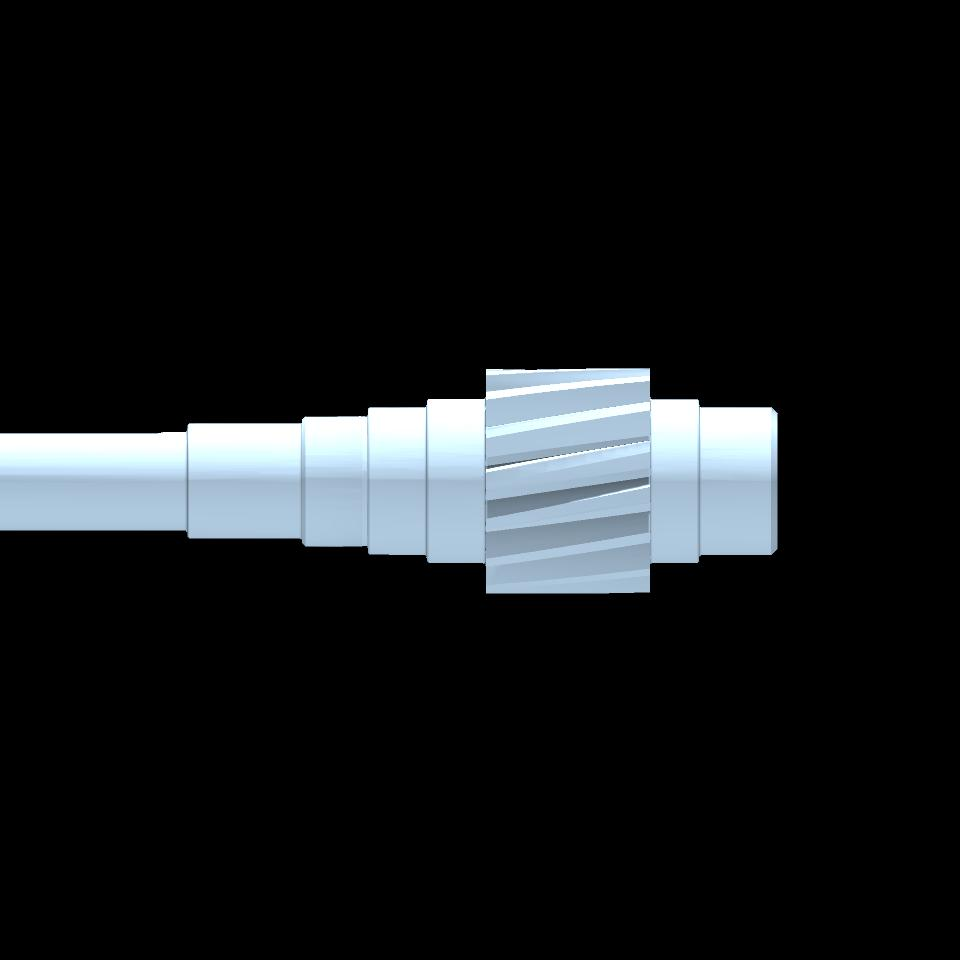Helical: (486, 367, 650, 593)
